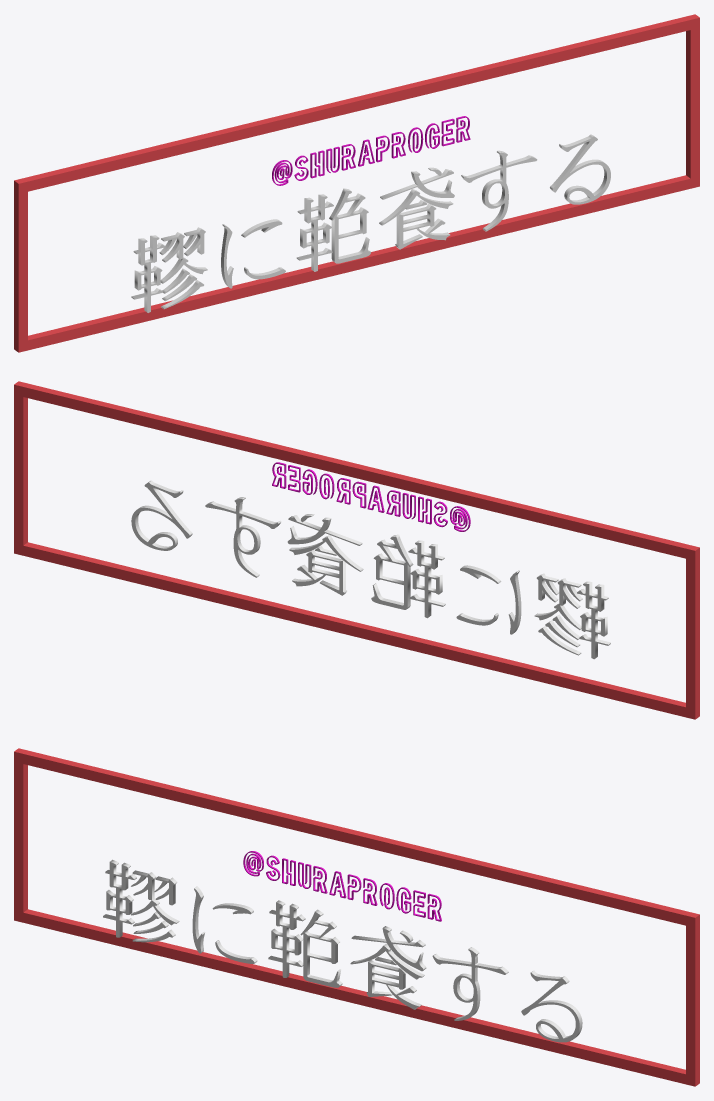
File: insta.fbx
The picture shows the model from 3 angles, top to bottom: view 1: azimuth 30°, elevation 25°; view 2: azimuth 150°, elevation 25°; view 3: azimuth 330°, elevation 25°; orthographic projection.
Parts seen in each view (by area): view 1: Plane.014, Text.005, Text.004; view 2: Plane.014, Text.005, Text.004; view 3: Plane.014, Text.005, Text.004.
Part boxes in pixels (left/top/right/bottom): Plane.014: left=14, top=14, right=699, bottom=352; Text.005: left=131, top=134, right=610, bottom=312; Text.004: left=272, top=116, right=470, bottom=185; Plane.014: left=14, top=381, right=699, bottom=719; Text.005: left=131, top=480, right=610, bottom=659; Text.004: left=272, top=462, right=470, bottom=531; Plane.014: left=14, top=748, right=699, bottom=1086; Text.005: left=103, top=859, right=582, bottom=1042; Text.004: left=243, top=851, right=441, bottom=921.
Bounding box in the file's own units: 23.03 × 5.45 × 1.05.
